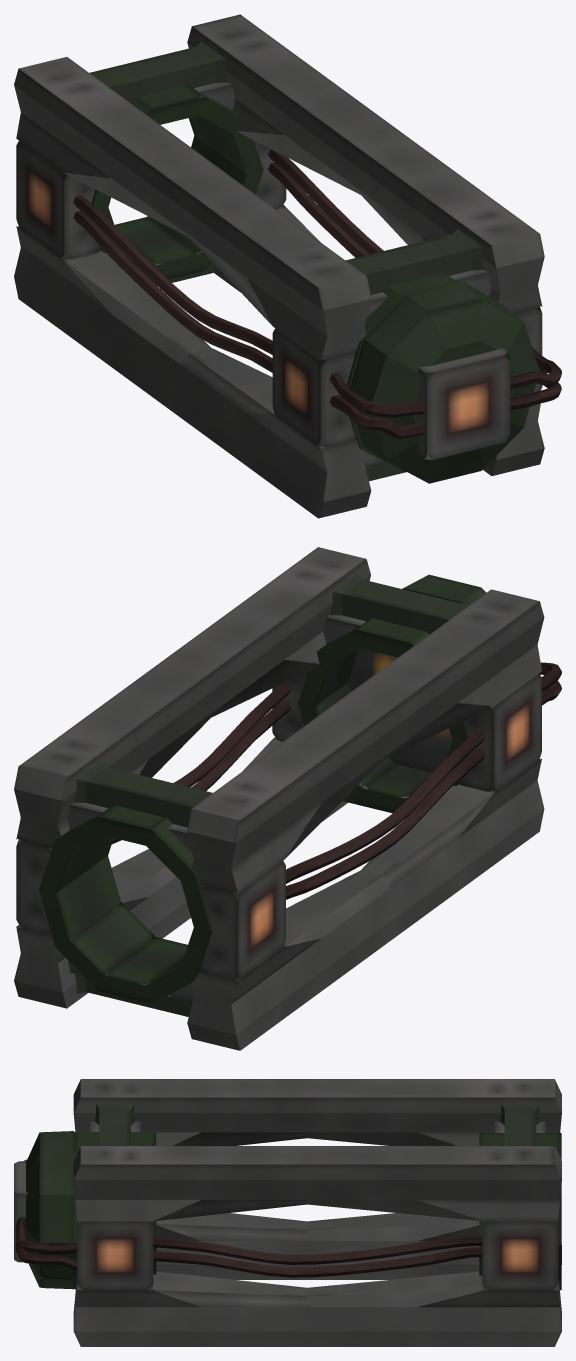
File: mes_frame_small.obj
3 renders of one model, top to bottom at view 1: azimuth 30°, elevation 25°; view 2: azimuth 150°, elevation 25°; view 3: azimuth 270°, elevation 25°, orthographic. The views are drawn at different scales.
Parts seen in each view (by area): view 1: 6, 5, 2, 8, 13, 7, 10, 11, 3, 16, 15, 1 (+5 smaller); view 2: 6, 5, 2, 7, 13, 1, 9, 3, 11, 15, 16, 4 (+6 smaller); view 3: 5, 1, 6, 2, 13, 8, 4, 12, 15, 16, 7, 9 (+1 smaller).
Part boxes in pixels (<box>): 6: <box>14,57,371,360</box>; 5: <box>187,14,544,313</box>; 2: <box>14,226,371,518</box>; 8: <box>350,281,539,483</box>; 13: <box>73,149,561,438</box>; 7: <box>60,85,263,282</box>; 10: <box>416,348,510,459</box>; 11: <box>272,328,355,446</box>; 3: <box>16,141,101,259</box>; 16: <box>345,229,484,294</box>; 15: <box>89,41,228,102</box>; 1: <box>214,205,544,475</box>; 6: <box>187,589,544,893</box>; 5: <box>14,547,370,848</box>; 2: <box>187,758,544,1050</box>; 7: <box>39,805,241,1003</box>; 13: <box>111,662,561,899</box>; 1: <box>14,737,347,1008</box>; 9: <box>298,618,497,812</box>; 3: <box>200,861,285,979</box>; 11: <box>459,673,541,791</box>; 15: <box>73,762,212,827</box>; 16: <box>329,574,468,634</box>; 4: <box>16,825,58,934</box>; 5: <box>73,1146,561,1221</box>; 1: <box>73,1271,561,1346</box>; 6: <box>73,1079,561,1145</box>; 2: <box>156,1213,561,1279</box>; 13: <box>15,1159,482,1277</box>; 8: <box>26,1131,73,1289</box>; 4: <box>482,1221,558,1290</box>; 12: <box>77,1221,153,1290</box>; 15: <box>500,1104,540,1145</box>; 16: <box>95,1104,135,1145</box>; 7: <box>479,1133,561,1290</box>; 9: <box>74,1132,156,1289</box>.
Bounding box in the file's own units: 1 × 0.9929 × 2.71.
